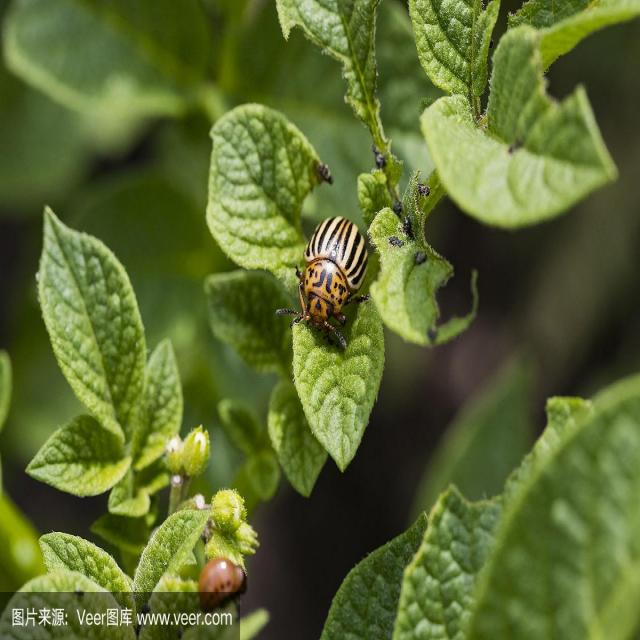ShuCaiHuaBanChong-Grown-: (289, 200, 395, 363)
